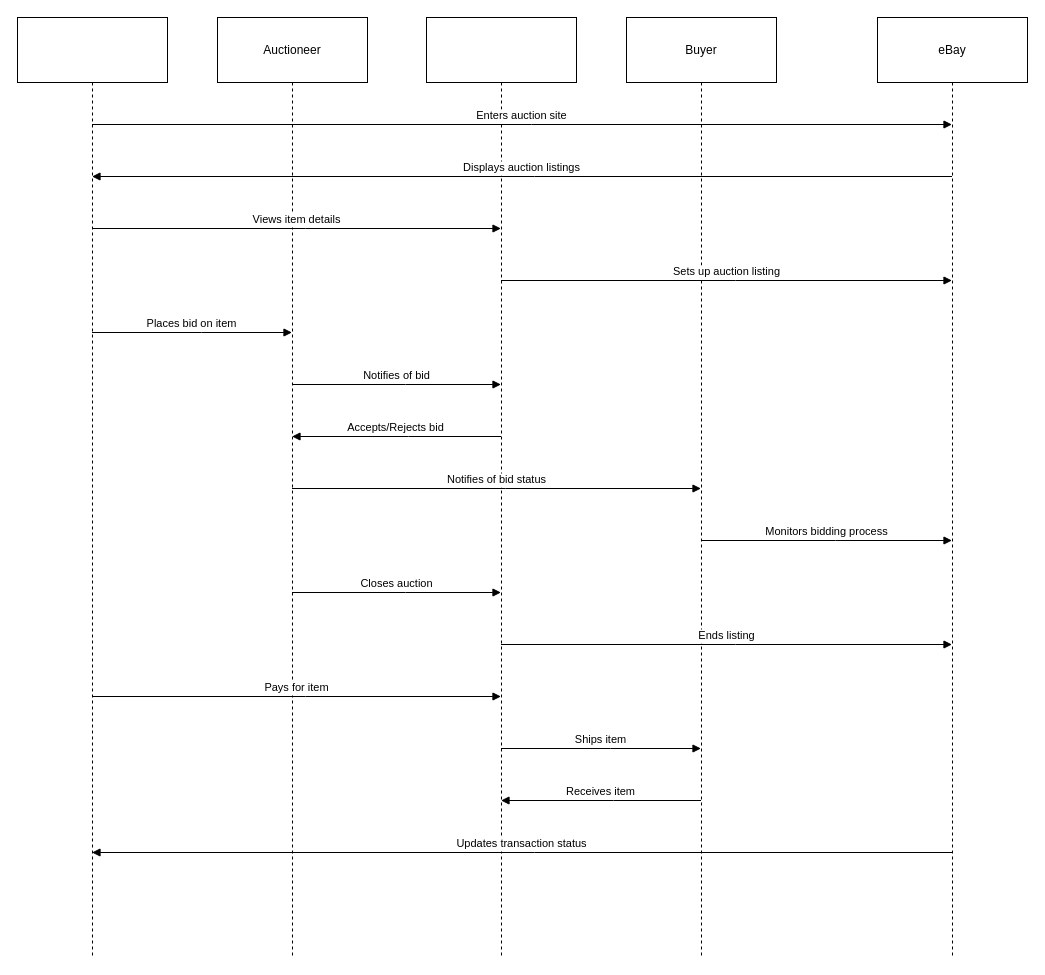
Image size: 1045x975. Some labels were removed from this diagram. The box of each missing label's shape, as (x1, y1, x2, y2) in pixels:
Seller: (426, 16, 576, 958)
User: (16, 16, 168, 958)
